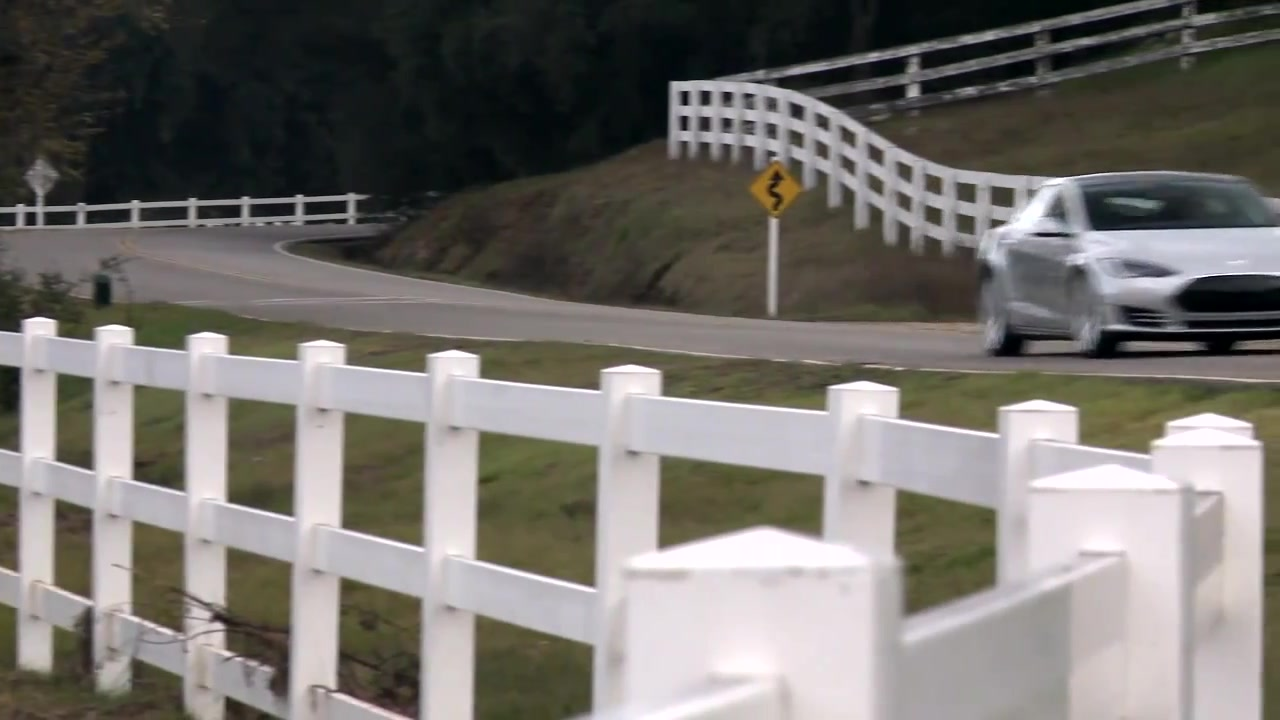car: (976, 168, 1280, 367)
